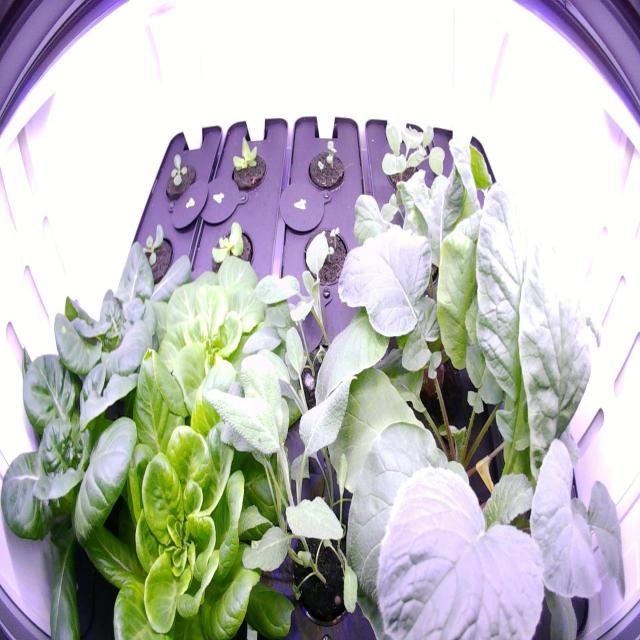germination: (297, 212, 353, 300), (299, 135, 348, 202)
young: (71, 342, 303, 638), (0, 314, 147, 636), (140, 247, 316, 457), (42, 225, 197, 440), (203, 215, 257, 289), (127, 215, 177, 294), (222, 132, 269, 201), (158, 144, 200, 212)
